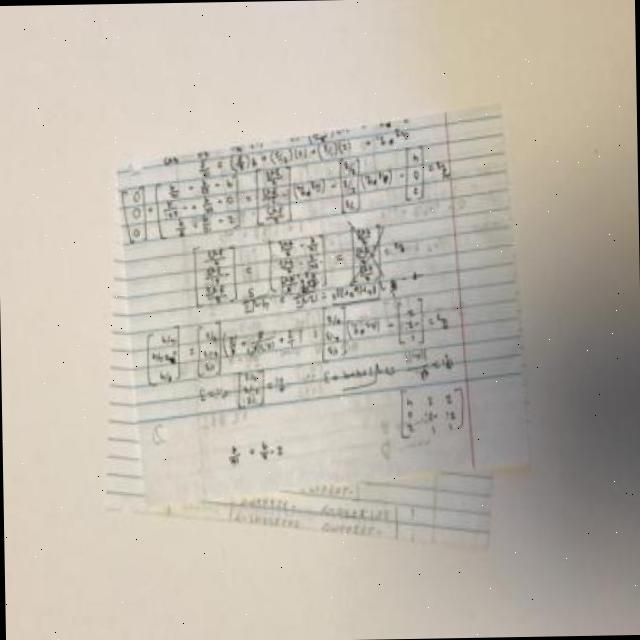trash: (94, 103, 532, 552)
